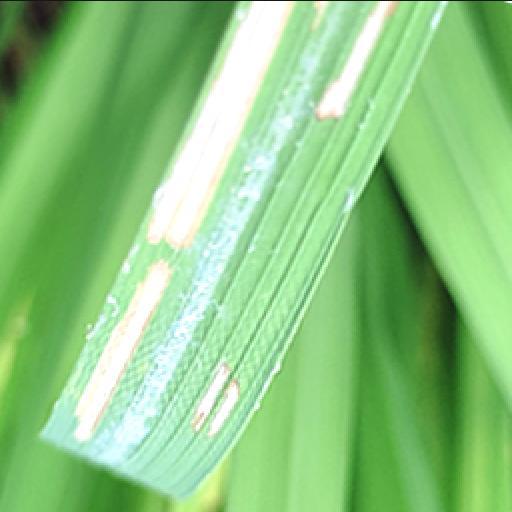Bacterial Leaf Blight: (64, 2, 402, 436)
